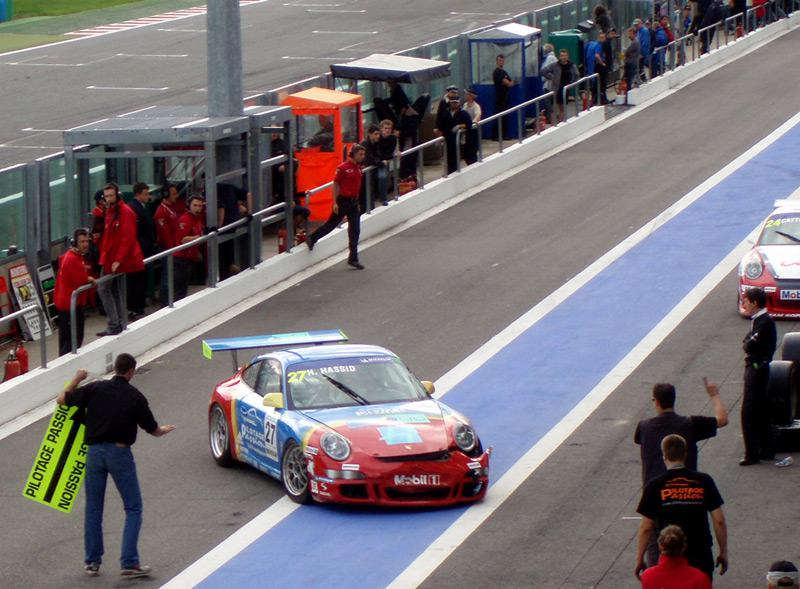bonnet-dent: (309, 409, 470, 459)
front-bumper-dent: (355, 466, 464, 507)
